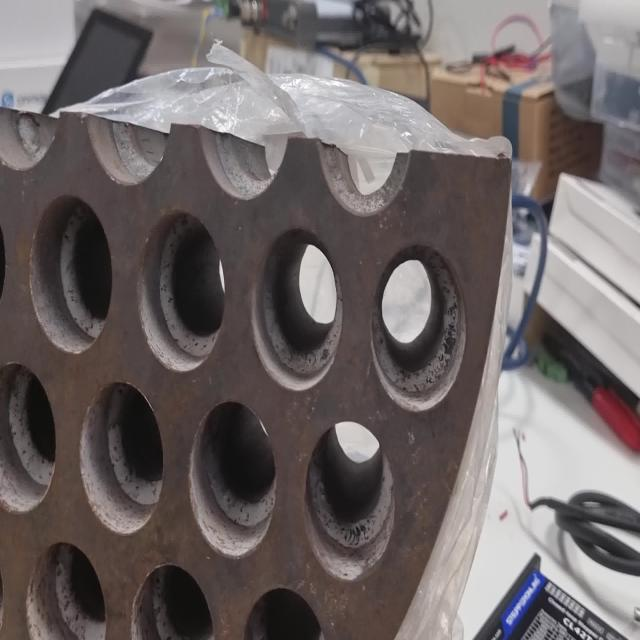Hole: (370, 239, 468, 411), (250, 225, 343, 392), (304, 421, 394, 583), (137, 209, 225, 373), (188, 399, 276, 557), (28, 194, 112, 354), (78, 381, 164, 536), (1, 362, 56, 514), (24, 539, 106, 639), (130, 562, 214, 640), (242, 585, 326, 640)
